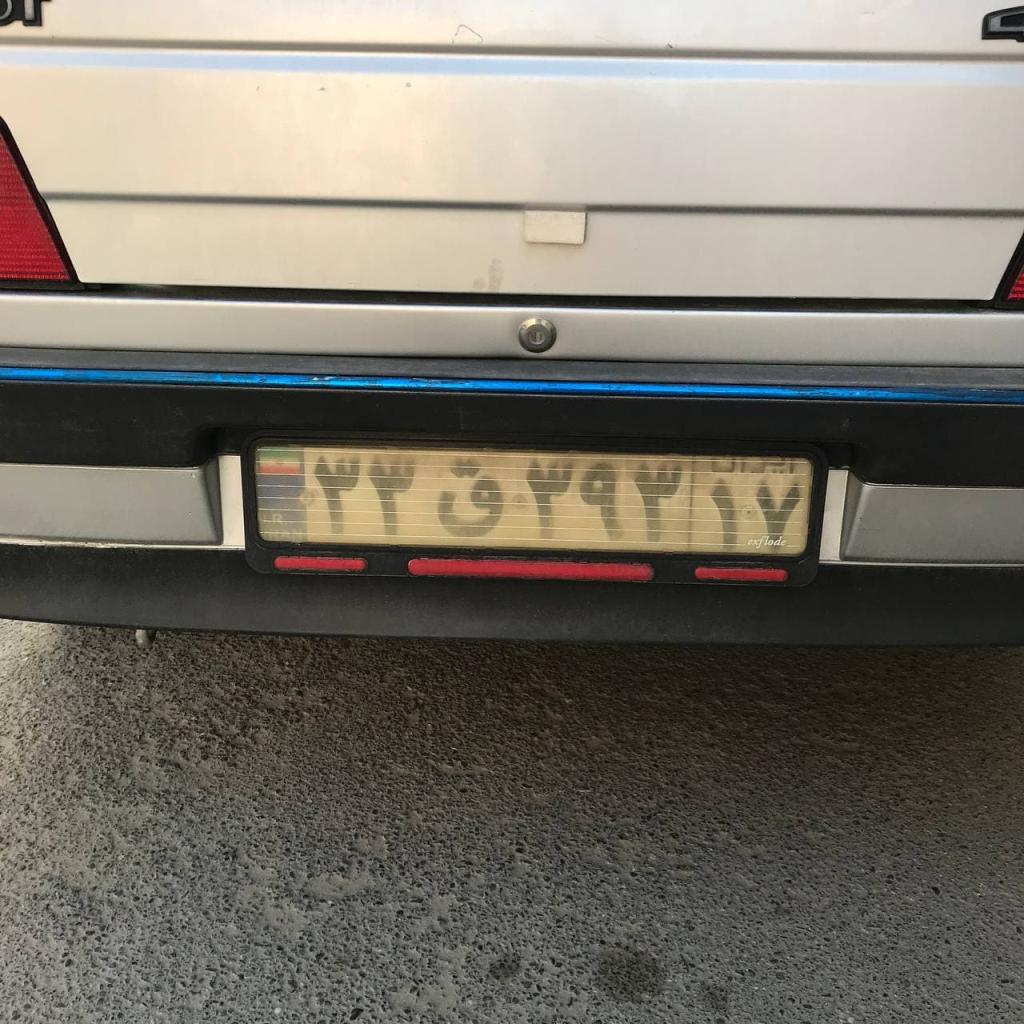Plates: (252, 442, 816, 561)
